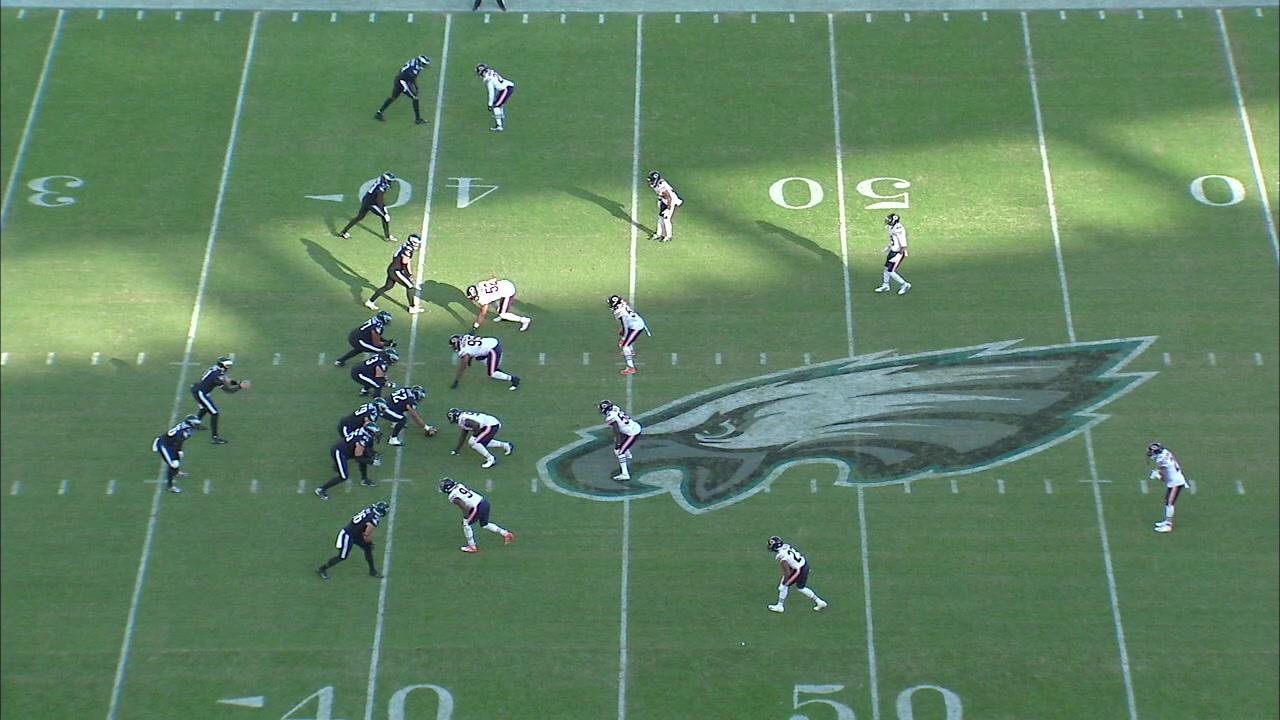defense: (438, 475, 519, 555), (764, 534, 829, 614), (446, 333, 523, 393), (1144, 440, 1192, 535), (445, 406, 514, 470), (604, 291, 653, 378), (463, 275, 534, 335), (597, 396, 643, 485), (871, 212, 912, 298), (472, 62, 518, 134), (645, 171, 684, 244)
oline: (313, 419, 385, 504), (373, 382, 439, 447), (333, 308, 399, 370), (347, 348, 403, 400), (337, 396, 389, 440)
qb: (187, 354, 254, 445)
skill: (313, 500, 392, 584), (363, 232, 427, 315), (333, 170, 400, 246), (370, 52, 432, 128), (149, 413, 203, 496)
